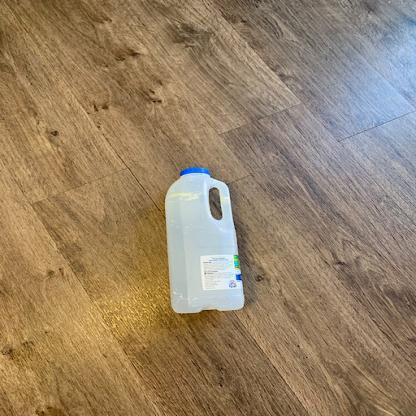trash: (162, 168, 247, 318)
